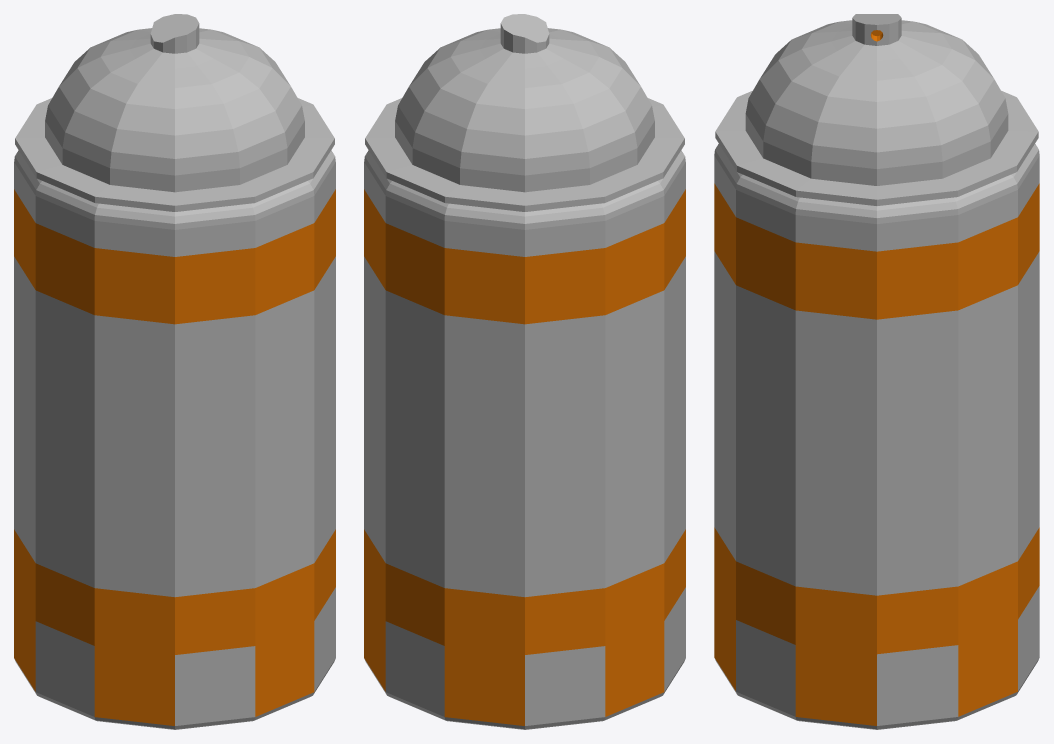
Rendered from spray_can.glb.
The picture shows the model from 3 angles, left to right: view 1: azimuth 30°, elevation 25°; view 2: azimuth 150°, elevation 25°; view 3: azimuth 270°, elevation 25°; orthographic projection.
Visible parts, largest first — view 1: Cylinder; view 2: Cylinder; view 3: Cylinder.
Part boxes in pixels (<box>): Cylinder: <box>14,14,335,729</box>; Cylinder: <box>364,14,685,729</box>; Cylinder: <box>714,14,1039,729</box>.
Size of the model in its own units: 0.14 by 0.3078 by 0.14.
